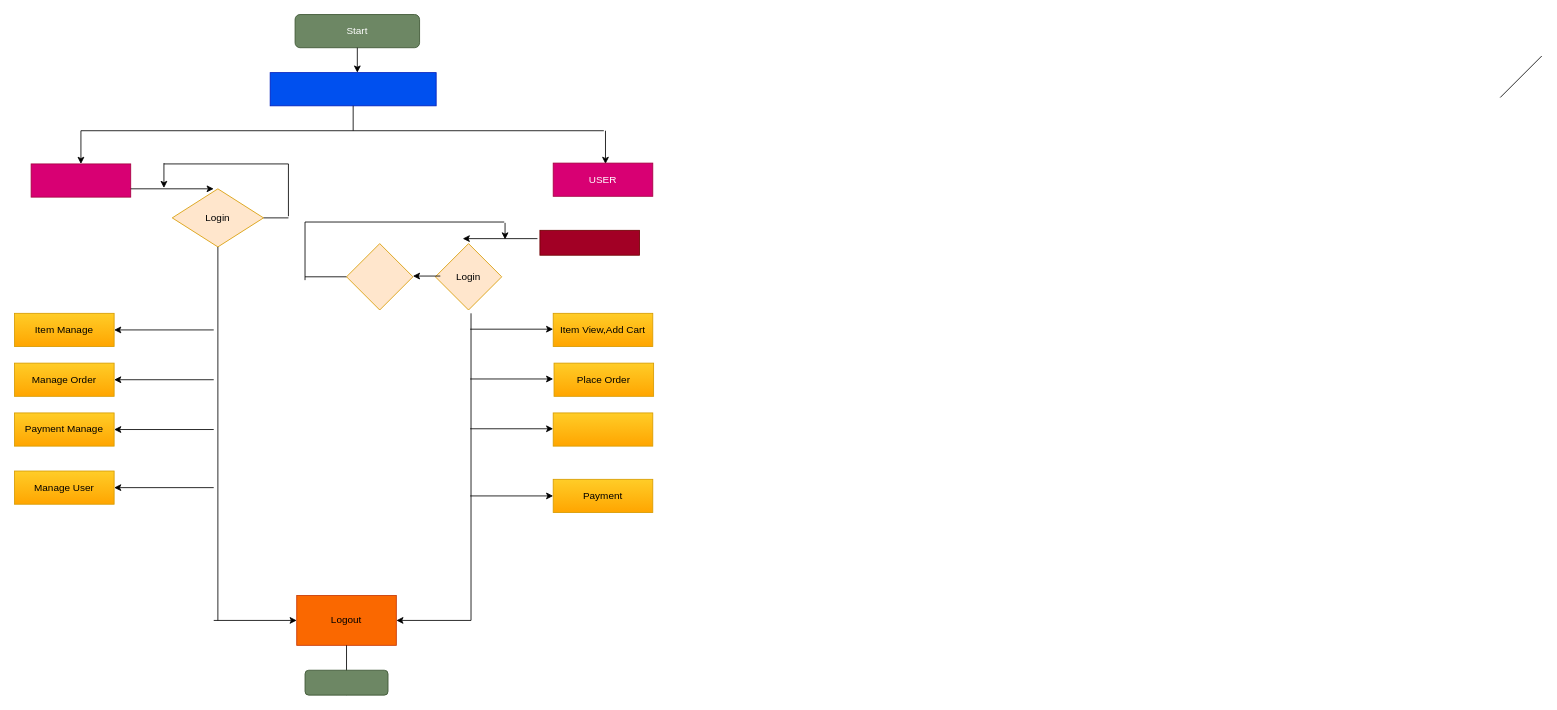
This 1557x710 diagram has some shape labels left out. The box of each missing label's shape, as (x1, y1, x2, y2) in pixels:
ADMIN: (30, 163, 131, 197)
End: (304, 669, 388, 695)
Online Food Ordering: (269, 72, 436, 106)
Order Cancel: (552, 412, 653, 446)
REG: (346, 243, 413, 310)
Show Item: (539, 229, 640, 255)
